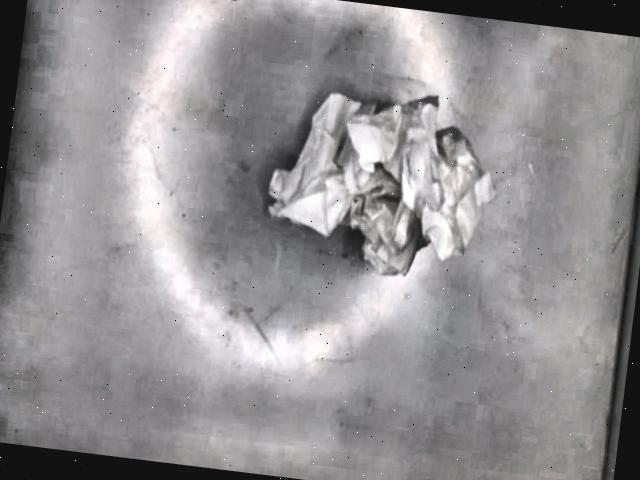Paper: (264, 88, 495, 279)
